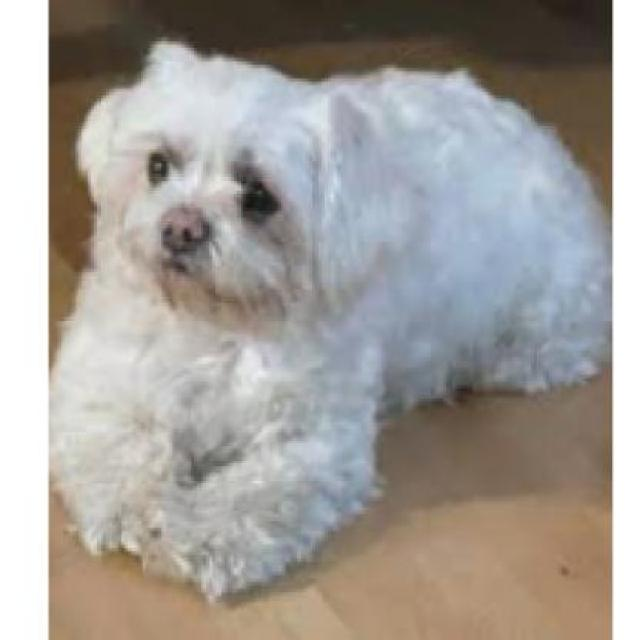Dog: (52, 34, 610, 606)
